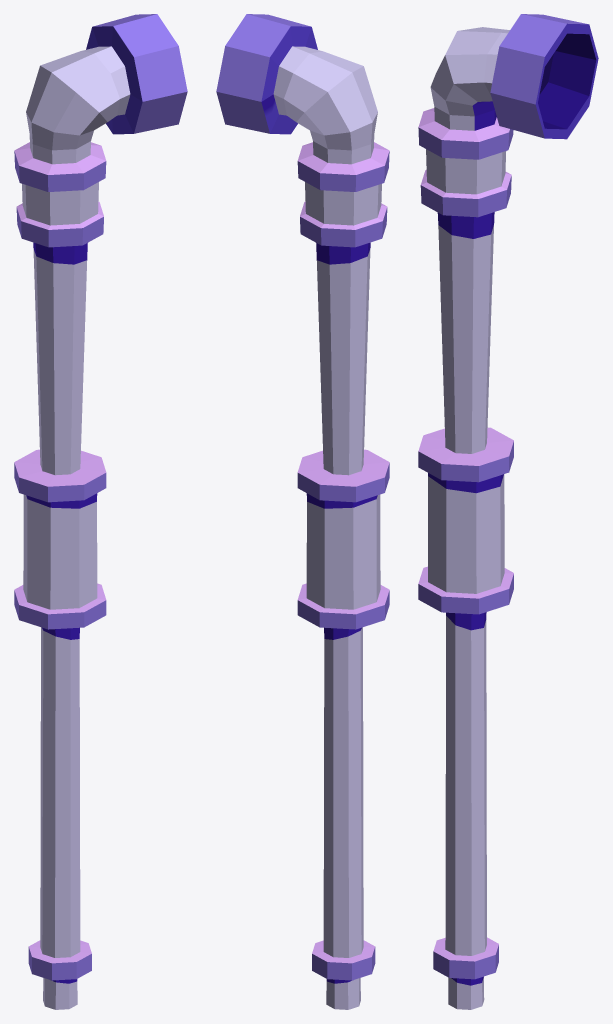
Rendered from 3D_wpn_metal-pipe.fbx.
3 renders of one model, left to right at view 1: azimuth 30°, elevation 25°; view 2: azimuth 150°, elevation 25°; view 3: azimuth 330°, elevation 25°, orthographic. The views are drawn at different scales.
Parts seen in each view (by area): view 1: GEO_metal-pipe; view 2: GEO_metal-pipe; view 3: GEO_metal-pipe.
Part boxes in pixels (bbox=[...]): GEO_metal-pipe: bbox=[14, 14, 187, 1009]; GEO_metal-pipe: bbox=[216, 14, 389, 1009]; GEO_metal-pipe: bbox=[418, 14, 598, 1009].
Bounding box in the file's own units: 0.18 × 0.1366 × 1.2.
